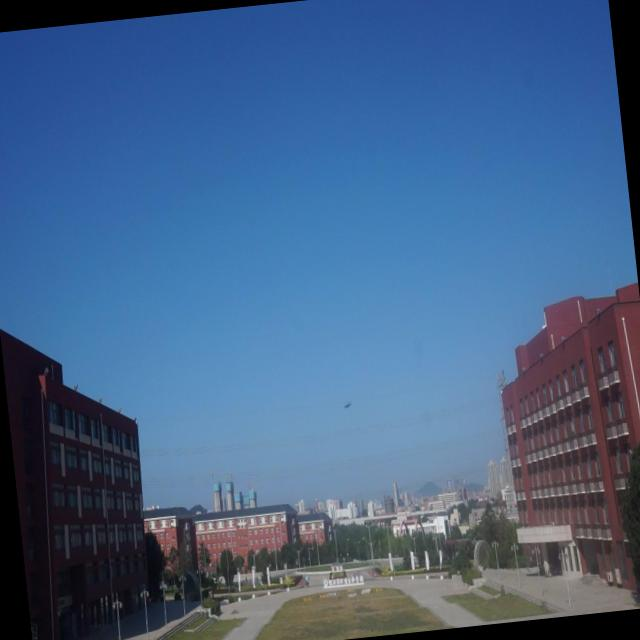drone: (342, 396, 354, 414)
